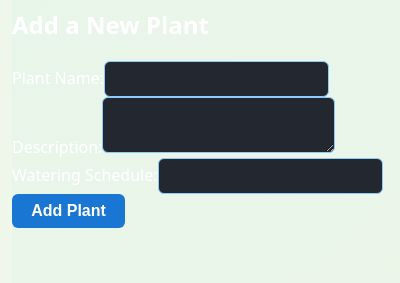
it: PlantForm Component Tests › shows error on API/network failure
This screenshot has width=400, height=283.
Type "Test" into the field labelled "Plant Name:".
click(216, 79); type("Test")  # box x1=104 y1=61 x2=329 y2=97
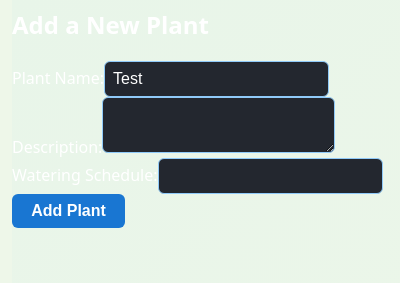
Type "Desc" into the text box labelled "Description:".
click(219, 125); type("Desc")  # box x1=102 y1=97 x2=335 y2=153
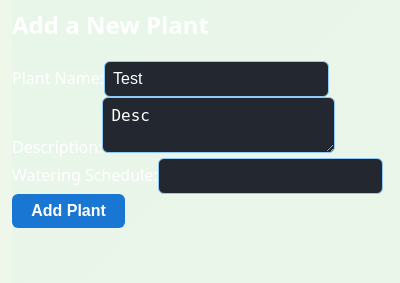
Type "Every day" into the field labelled "Watering Schedule:".
click(270, 176); type("Every day")  # box x1=158 y1=158 x2=382 y2=194
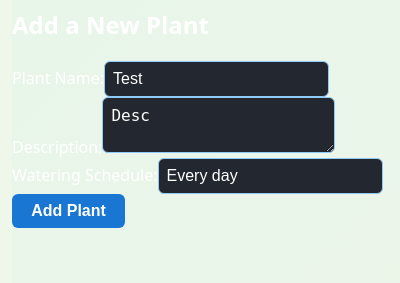
Click the button "Add Plant".
click(68, 211)  # box x1=12 y1=194 x2=125 y2=228
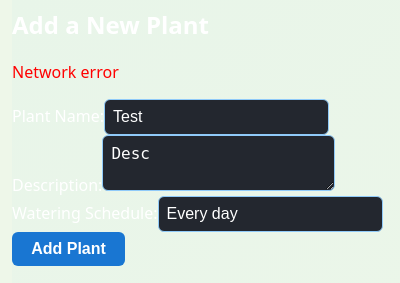
expect the text "Network error" is shown: met, box x1=12 y1=61 x2=119 y2=83
